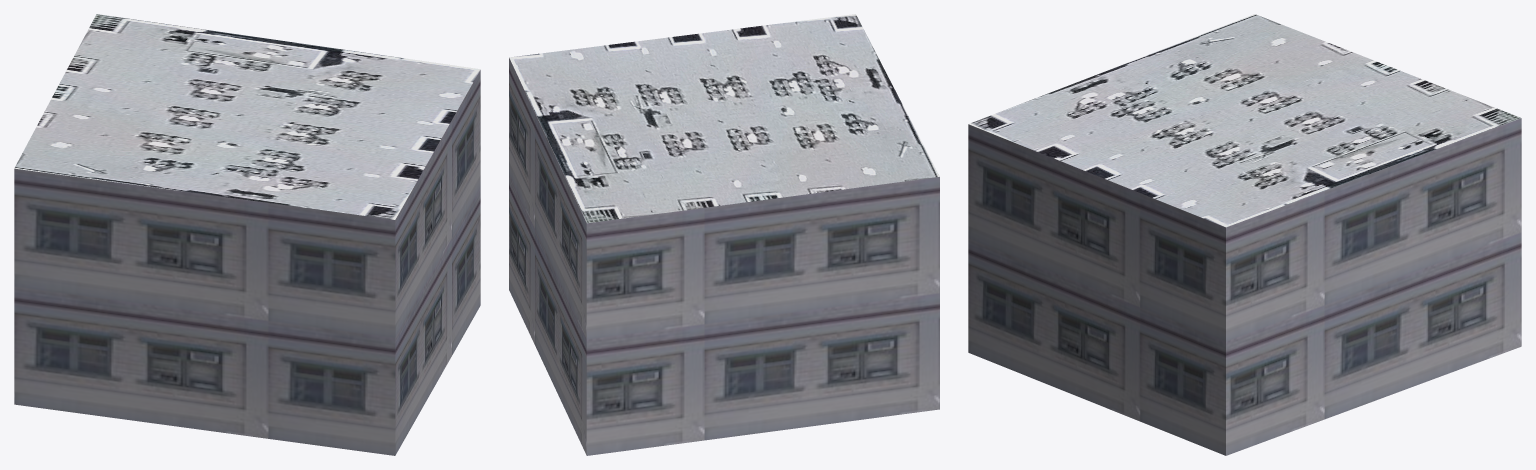
Rendered from ResTex__1648.fbx.
3 views of the same model, side by side, from view 1: azimuth 30°, elevation 25°; view 2: azimuth 150°, elevation 25°; view 3: azimuth 270°, elevation 25° (orthographic). The views are drawn at different scales.
Parts seen in each view (by area): view 1: CityEngineMaterial_1_m, CityEngineMaterial_4_m; view 2: CityEngineMaterial_1_m, CityEngineMaterial_4_m; view 3: CityEngineMaterial_1_m, CityEngineMaterial_4_m.
Boxes of the visible parts, x1=… form: CityEngineMaterial_1_m: x1=14, y1=70, x2=480, y2=455; CityEngineMaterial_4_m: x1=14, y1=14, x2=480, y2=219; CityEngineMaterial_1_m: x1=509, y1=58, x2=939, y2=455; CityEngineMaterial_4_m: x1=509, y1=14, x2=939, y2=223; CityEngineMaterial_1_m: x1=968, y1=118, x2=1521, y2=455; CityEngineMaterial_4_m: x1=968, y1=14, x2=1521, y2=227.
Size of the model in its own units: 12.02 by 6 by 13.17.
2 materials, 2 textured.
